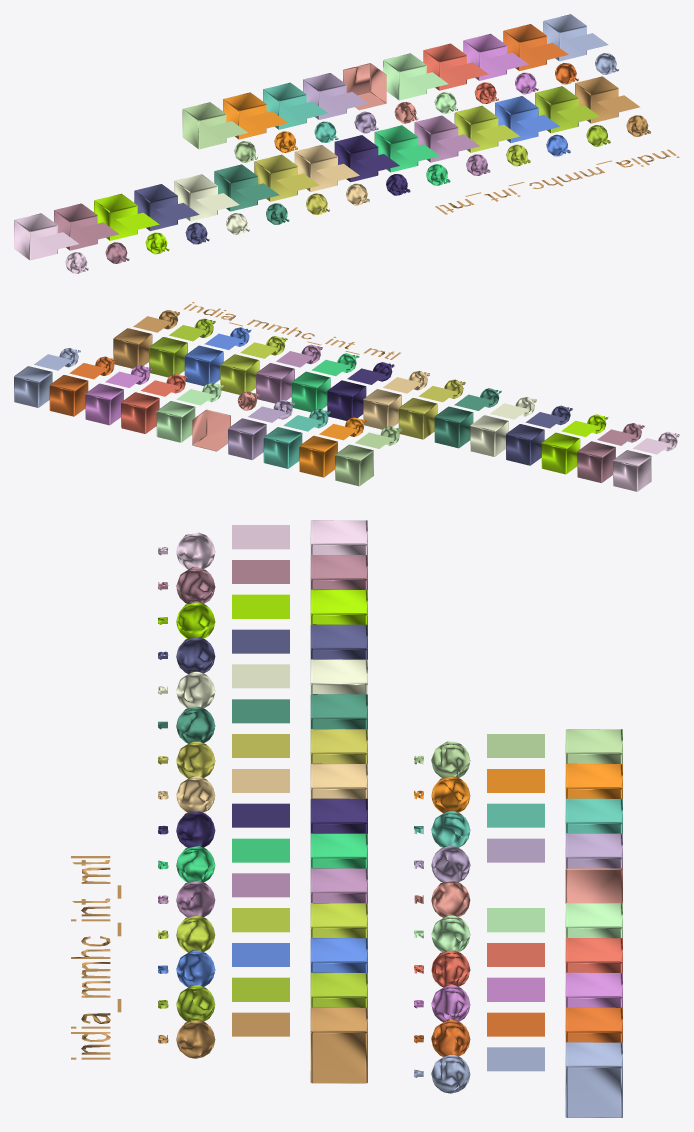
Rendered from india_mmhc_int_mtl_lod2.glb.
3 views of the same model, one above another, from view 1: azimuth 30°, elevation 25°; view 2: azimuth 150°, elevation 25°; view 3: azimuth 270°, elevation 25° (orthographic). The views are drawn at different scales.
Bounding box in the file's own units: 83.41 × 3.7 × 35.61.
